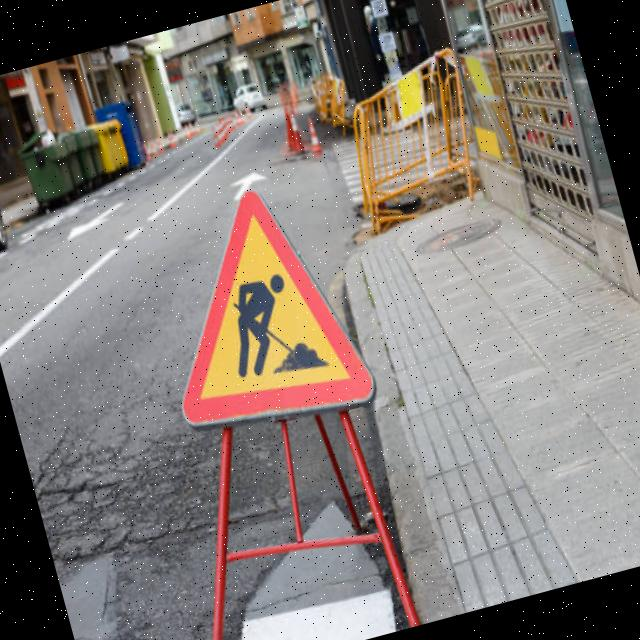road_work: (126, 167, 386, 459)
